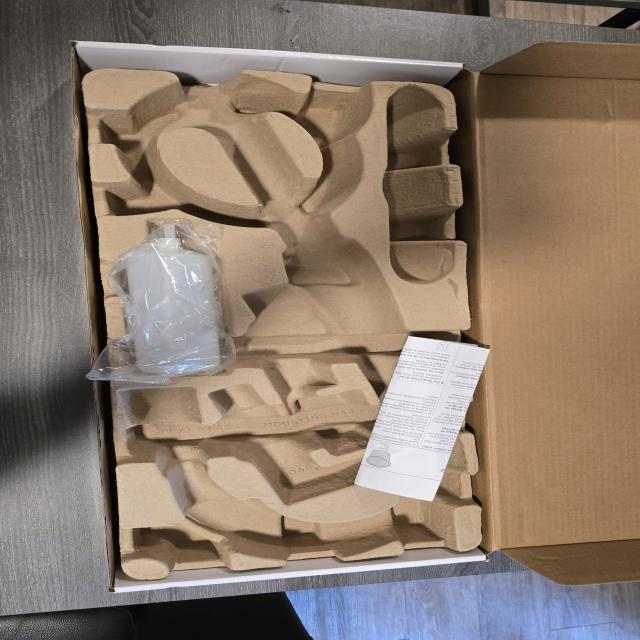1m: (120, 70, 468, 559)
2m: (209, 385, 396, 503)
3: (125, 222, 225, 375)
4m: (383, 83, 454, 286)
5m: (301, 93, 363, 139)
6m: (97, 101, 184, 146)
7m: (105, 171, 212, 217)
8: (352, 334, 491, 503)
